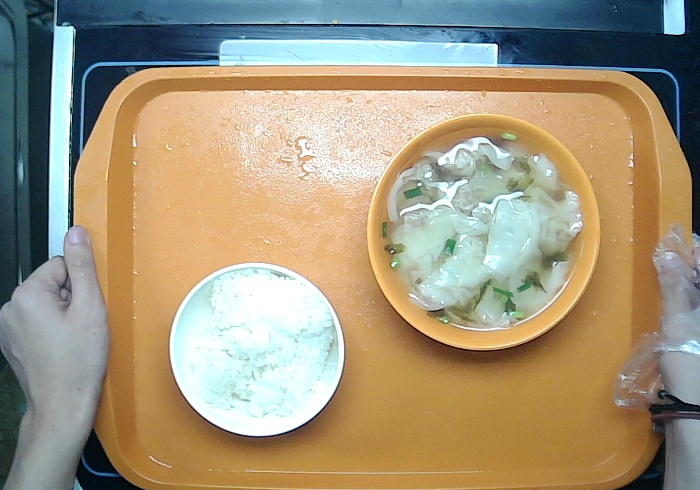NLDX-Fan_Wan: (161, 259, 348, 443)
NLDX-Hun_Tun_Wan: (361, 107, 611, 349)
